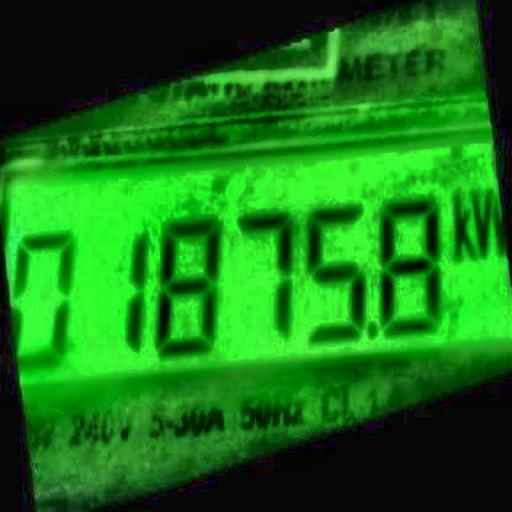SERIAL_REGION: (9, 189, 507, 367)
